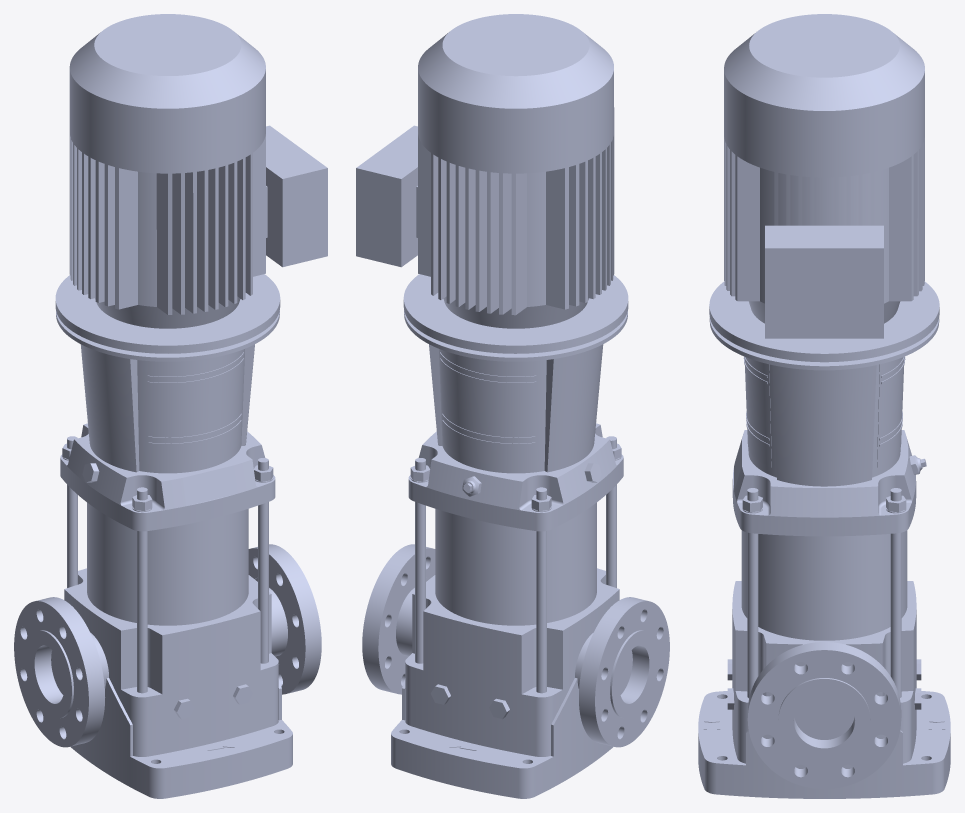
3 views of the same model, side by side, from view 1: azimuth 30°, elevation 25°; view 2: azimuth 150°, elevation 25°; view 3: azimuth 270°, elevation 25° (orthographic). The views are drawn at different scales.
Visible parts, largest first — view 1: NAUO16, NAUO25, NAUO21, NAUO23, NAUO24_1, NAUO24, NAUO20_2, NAUO20_1, NAUO20_3; view 2: NAUO16, NAUO25, NAUO21, NAUO23, NAUO24_1, NAUO24, NAUO20_3, NAUO20, NAUO20_2; view 3: NAUO16, NAUO21, NAUO25, NAUO23, NAUO24, NAUO20_1, NAUO20.
Boxes of the visible parts, x1,y1,x2,y2 form: NAUO16: (55, 14, 327, 353); NAUO25: (27, 568, 292, 798); NAUO21: (56, 311, 279, 531); NAUO23: (87, 502, 248, 625); NAUO24_1: (14, 597, 105, 747); NAUO24: (248, 544, 321, 694); NAUO20_2: (137, 487, 147, 693); NAUO20_1: (258, 458, 268, 663); NAUO20_3: (67, 436, 77, 587); NAUO16: (356, 14, 628, 353); NAUO25: (391, 568, 656, 798); NAUO21: (404, 310, 627, 531); NAUO23: (435, 502, 596, 625); NAUO24_1: (579, 597, 669, 747); NAUO24: (362, 544, 435, 694); NAUO20_3: (536, 487, 546, 693); NAUO20: (415, 458, 425, 663); NAUO20_2: (606, 436, 616, 587); NAUO16: (709, 14, 939, 362); NAUO21: (709, 317, 939, 536); NAUO25: (698, 581, 950, 798); NAUO23: (741, 530, 907, 640); NAUO24: (747, 642, 901, 788); NAUO20_1: (747, 488, 758, 697); NAUO20: (890, 488, 901, 697).
Bounding box in the file's own units: 0.3845 × 1.03 × 0.329.
